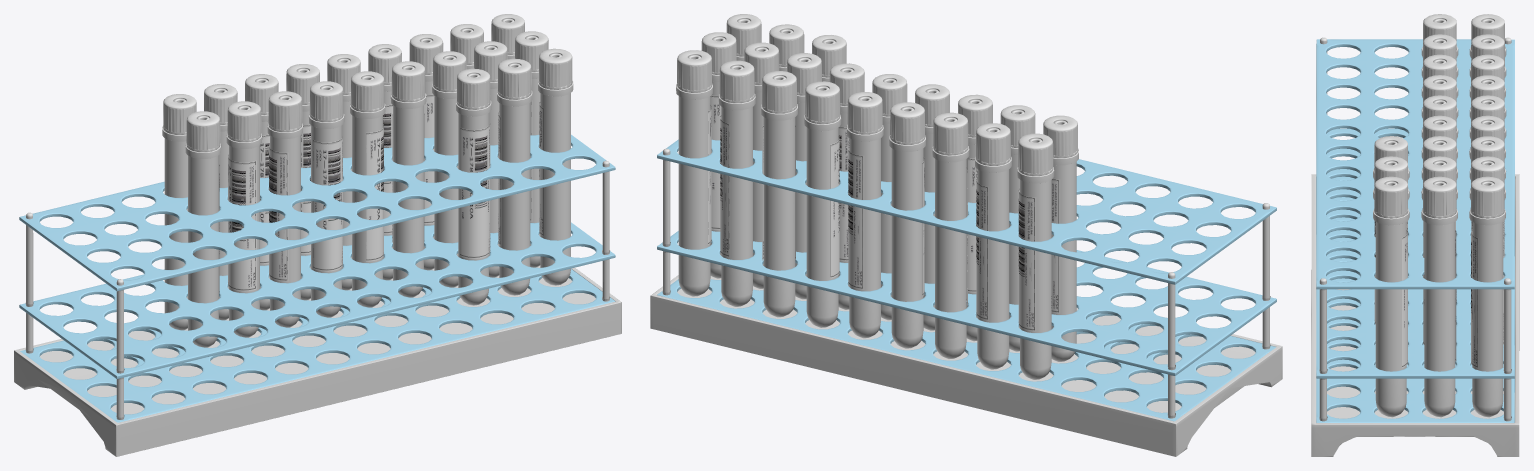
Rendered from LabEquipment_02.fbx.
3 views of the same model, side by side, from view 1: azimuth 30°, elevation 25°; view 2: azimuth 150°, elevation 25°; view 3: azimuth 270°, elevation 25° (orthographic). The views are drawn at different scales.
Parts seen in each view (by area): view 1: LabEquipment_02; view 2: LabEquipment_02; view 3: LabEquipment_02.
Part boxes in pixels (x1=…): LabEquipment_02: x1=14, y1=14, x2=621, y2=456; LabEquipment_02: x1=650, y1=14, x2=1282, y2=456; LabEquipment_02: x1=1311, y1=14, x2=1519, y2=456.
Size of the model in its own units: 24.46 by 11.87 by 8.6.
